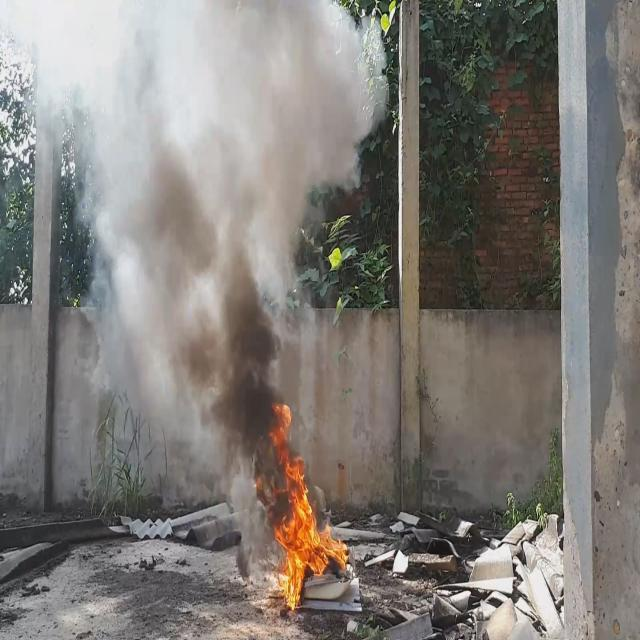Fire: (260, 398, 352, 608)
Smoke: (0, 1, 389, 470)
